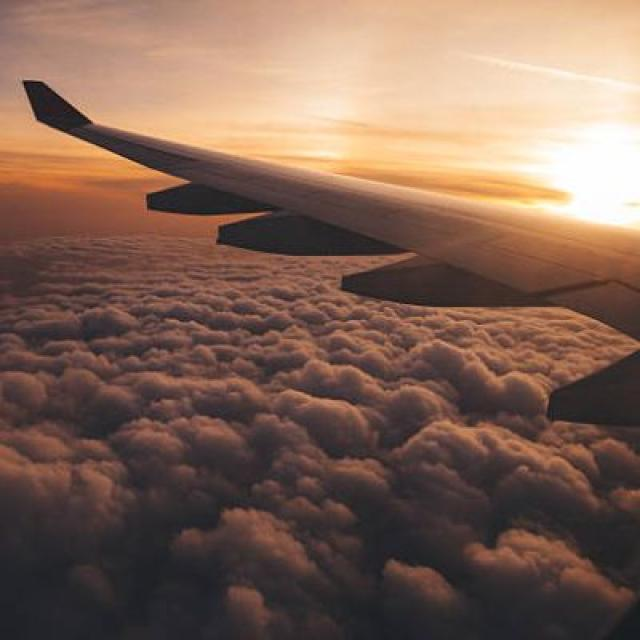Ac: (1, 320, 530, 603)
